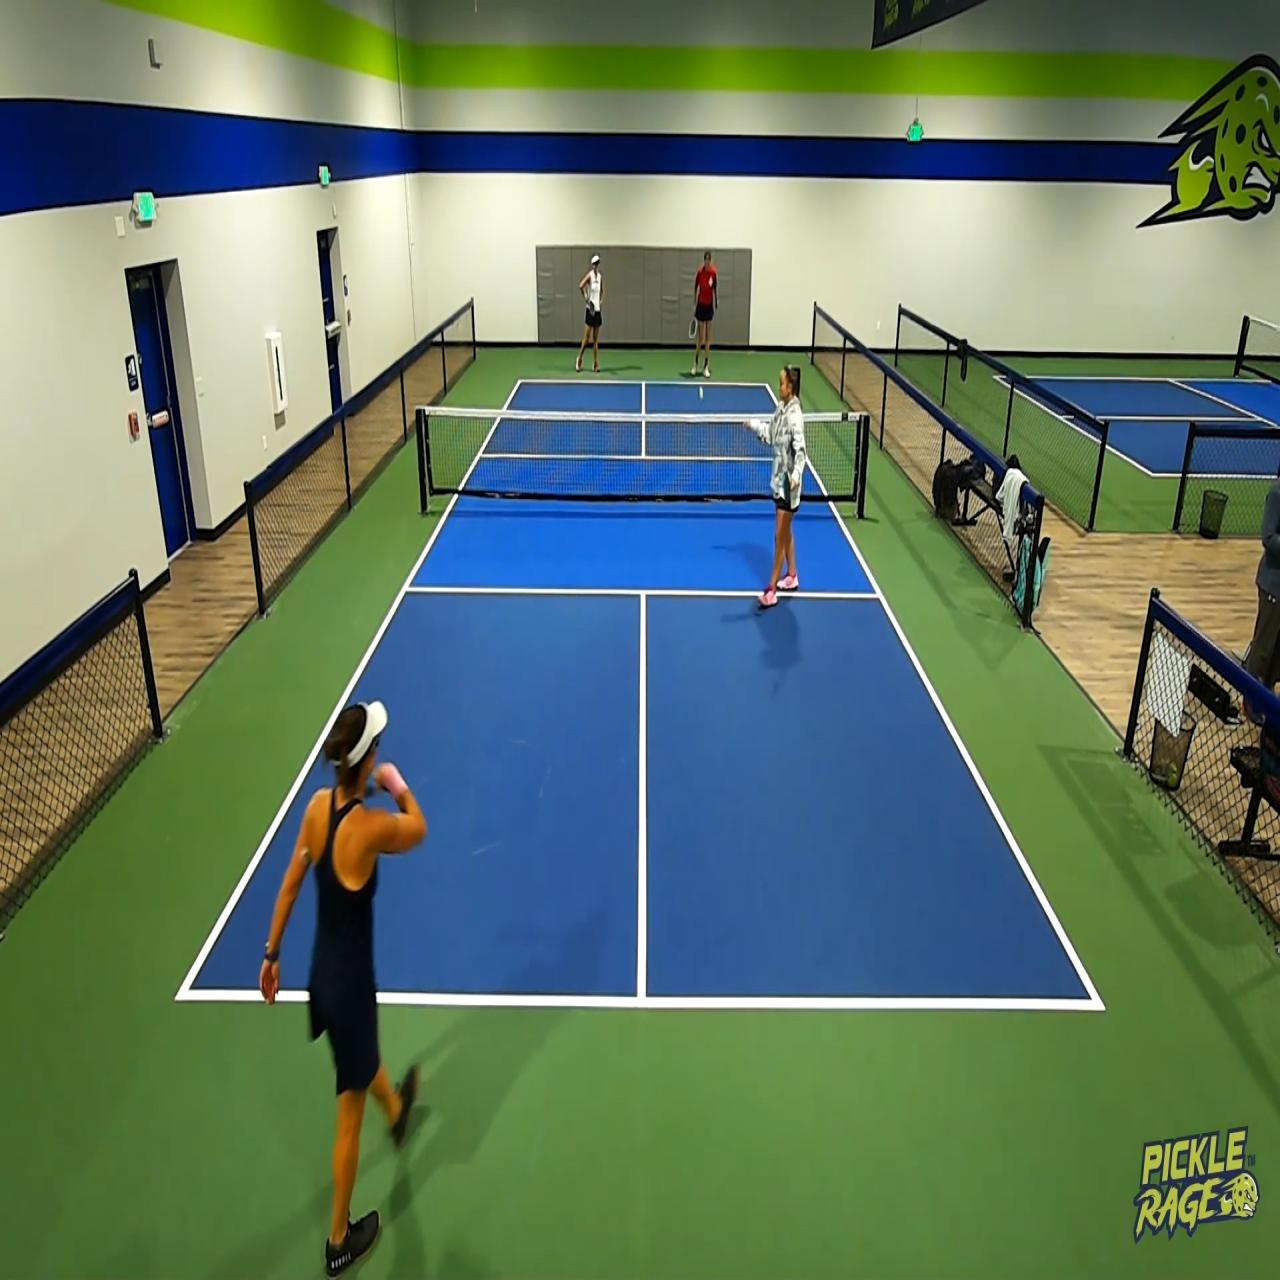Pickleball: (699, 384, 706, 403)
